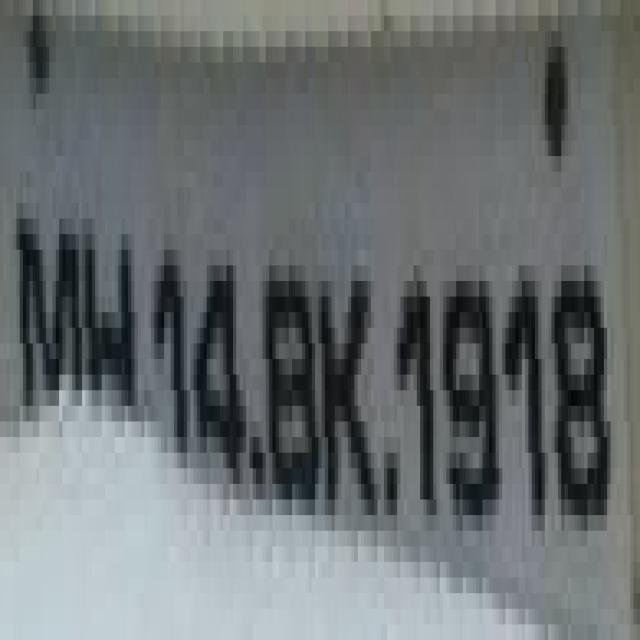plate: (13, 16, 640, 608)
